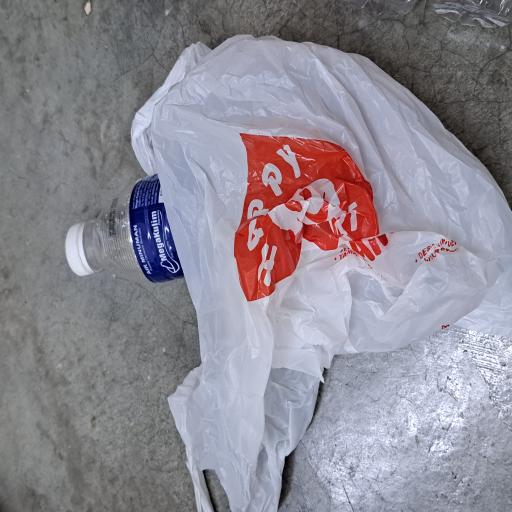plastic bag: (2, 174, 359, 512)
plastic bottle: (169, 120, 264, 276)
plastic bottle cap: (178, 79, 218, 125)
